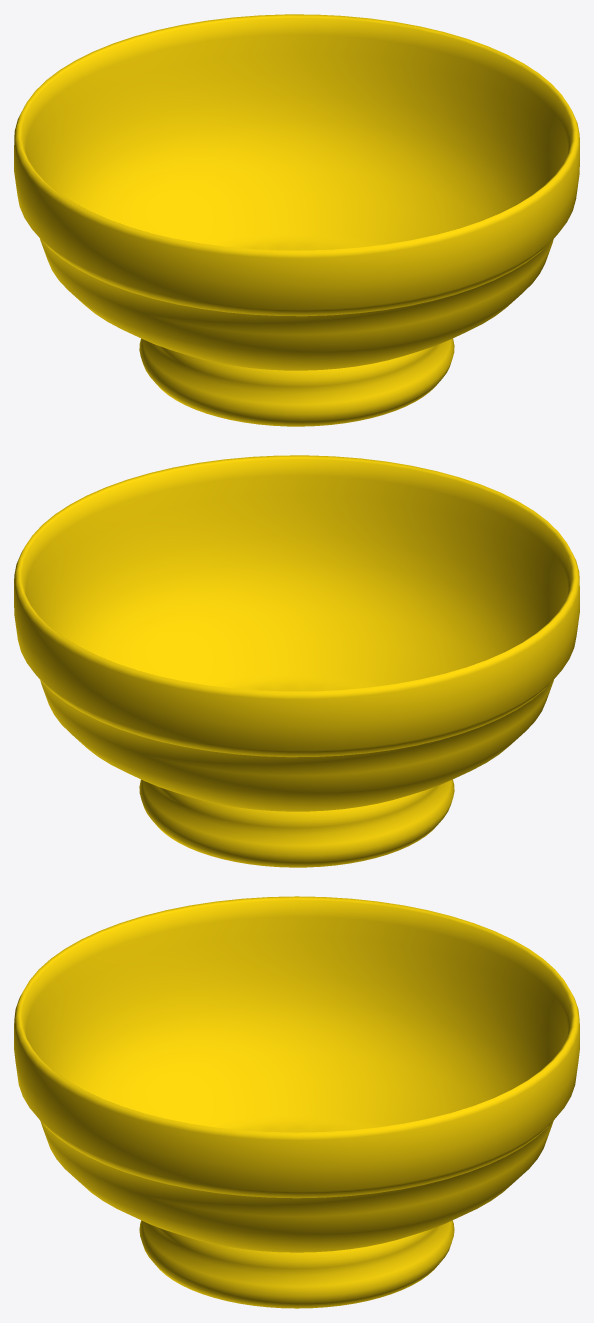
The model's file is bowl_gold.obj.
3 renders of one model, top to bottom at view 1: azimuth 30°, elevation 25°; view 2: azimuth 150°, elevation 25°; view 3: azimuth 270°, elevation 25°, orthographic.
Parts seen in each view (by area): view 1: Cylinder, Cylinder.001; view 2: Cylinder, Cylinder.001; view 3: Cylinder, Cylinder.001.
Part boxes in pixels (x1=…): Cylinder: x1=14, y1=14, x2=579, y2=370; Cylinder.001: x1=139, y1=338, x2=454, y2=426; Cylinder: x1=14, y1=455, x2=579, y2=811; Cylinder.001: x1=139, y1=779, x2=454, y2=867; Cylinder: x1=14, y1=896, x2=579, y2=1252; Cylinder.001: x1=139, y1=1220, x2=454, y2=1308.
Size of the model in its own units: 1.24 by 0.5595 by 1.24.
